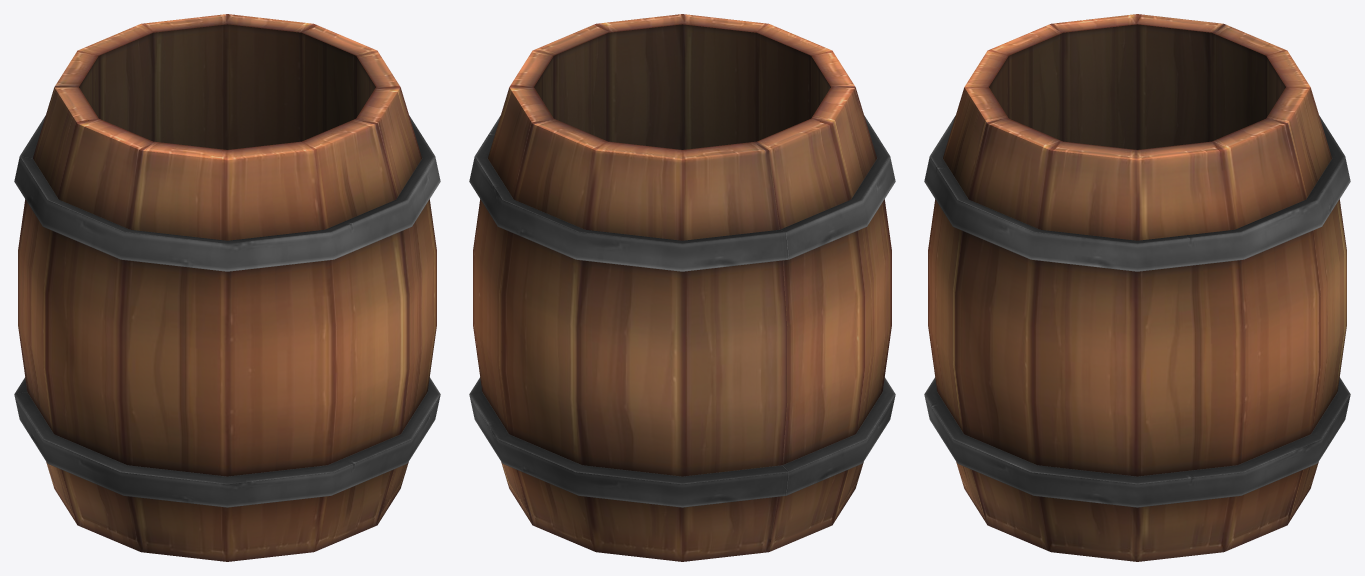
The model's file is Treasure_Barrel.fbx.
The picture shows the model from 3 angles, left to right: view 1: azimuth 30°, elevation 25°; view 2: azimuth 150°, elevation 25°; view 3: azimuth 270°, elevation 25°; orthographic projection.
Visible parts, largest first — view 1: Treasure_Barrel; view 2: Treasure_Barrel; view 3: Treasure_Barrel.
Part boxes in pixels (left/top/right/bottom): Treasure_Barrel: left=14, top=14, right=440, bottom=561; Treasure_Barrel: left=469, top=14, right=895, bottom=561; Treasure_Barrel: left=924, top=14, right=1350, bottom=561.
Bounding box in the file's own units: 0.3052 × 0.3172 × 0.3052.
